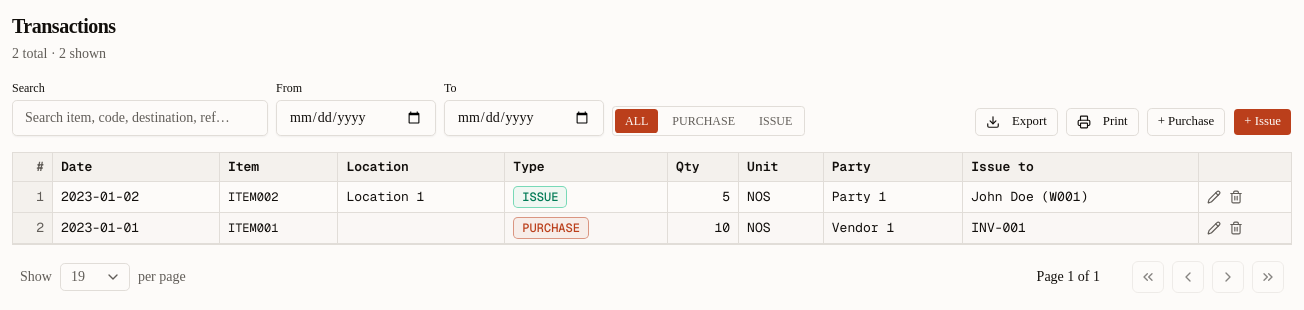
Test: TransactionsClient › filters rows by date range
Expected: the link "ITEM001" is shown, [228,220,278,236]
Expected: the link "ITEM002" is shown, [228,189,278,205]
Set "From" date to 2023-01-02
Type "2023-01-02" into the date field labelled "From" at (356, 118), box [276,100,436,136]
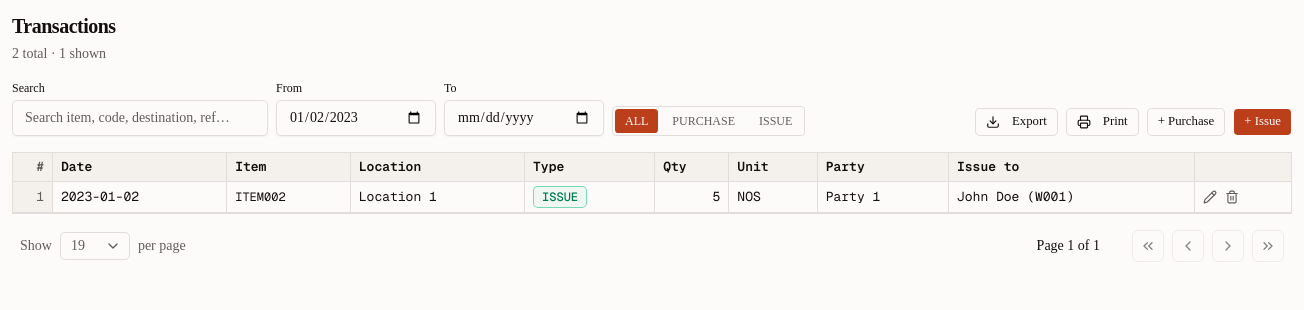
Expected: the link "ITEM002" is shown, [235,189,286,205]
Expected: the link "ITEM001" is gone
Set "To" date to 2023-01-01
Clear the date field labelled "From" at (356, 118), box [276,100,436,136]
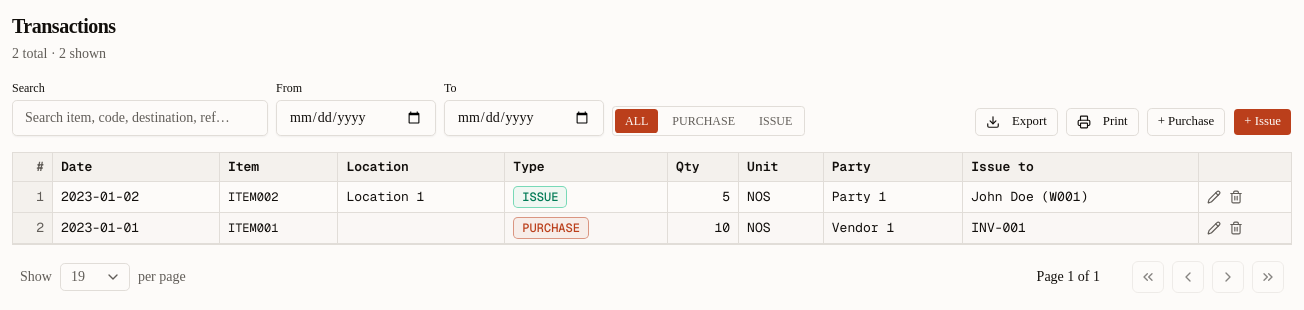
Type "2023-01-01" into the date field labelled "To" at (524, 118), box [444,100,604,136]
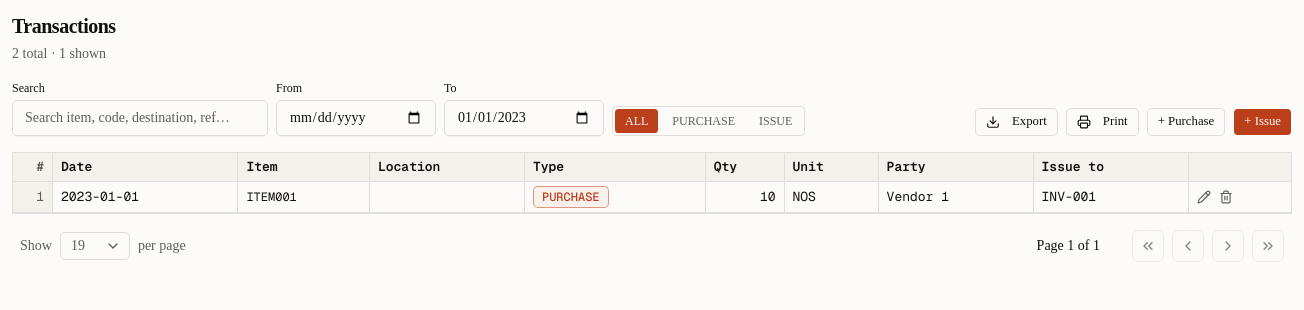
Expected: the link "ITEM001" is shown, [246,189,297,205]
Expected: the link "ITEM002" is gone
